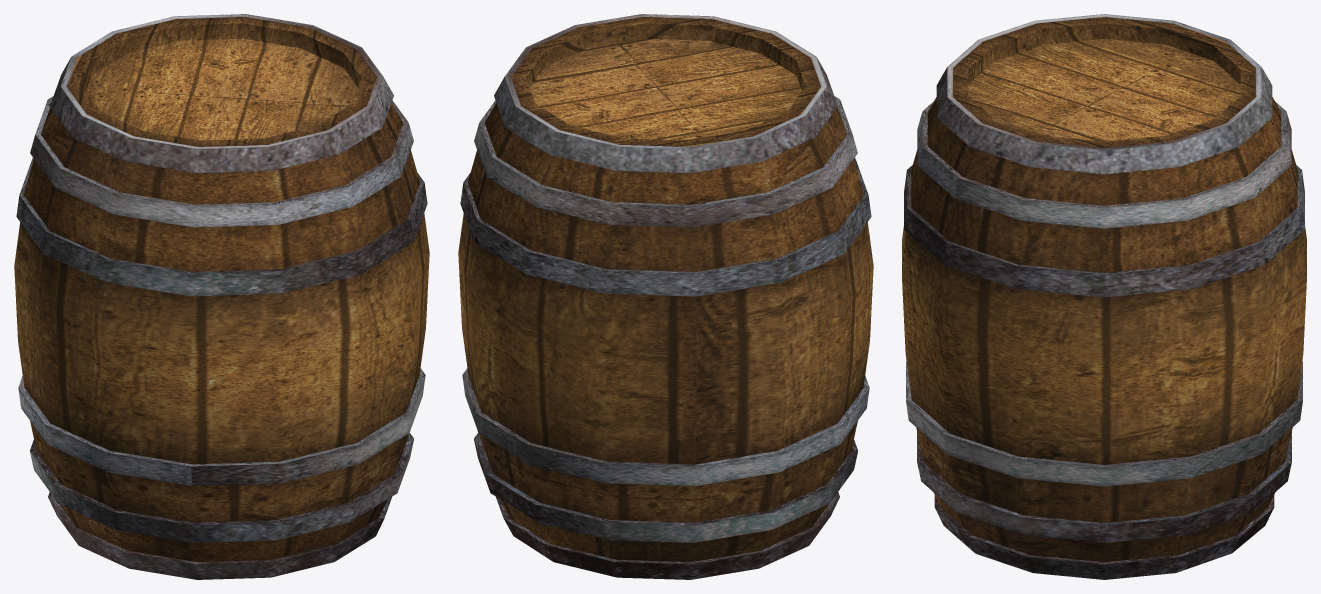
Rendered from Barrel.fbx.
The picture shows the model from 3 angles, left to right: view 1: azimuth 30°, elevation 25°; view 2: azimuth 150°, elevation 25°; view 3: azimuth 270°, elevation 25°; orthographic projection.
Parts seen in each view (by area): view 1: pCylinder1; view 2: pCylinder1; view 3: pCylinder1.
Boxes of the visible parts, x1,y1,x2,y2 form: pCylinder1: (14, 14, 429, 579); pCylinder1: (458, 14, 873, 579); pCylinder1: (902, 14, 1306, 579).
Bounding box in the file's own units: 15.29 × 17.38 × 14.9.
Materials: 2 (2 with a texture image).
